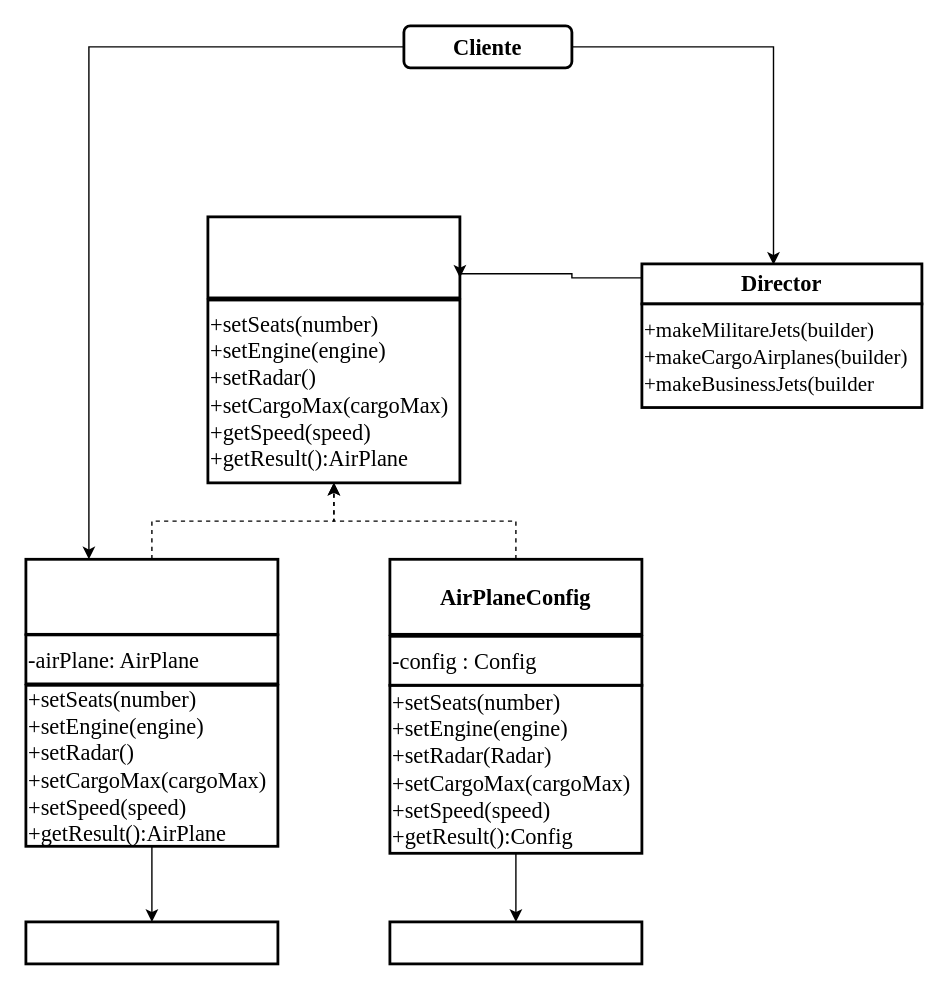
This 946x988 diagram has some shape labels left out. The box of each missing label's shape, as (x1, y1, x2, y2) in pixels:
<<interface>> Builder: (206, 215, 461, 299)
Airplane: (24, 920, 279, 965)
AirPlane Builder: (24, 557, 279, 635)
Config: (388, 920, 643, 965)
